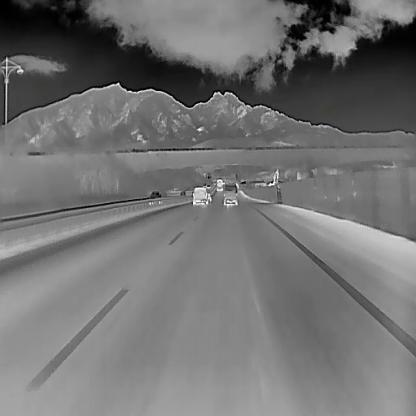car: (222, 182, 238, 206), (191, 185, 207, 206), (147, 190, 162, 203), (178, 189, 186, 201), (205, 190, 212, 202)
truck: (215, 177, 223, 191)
